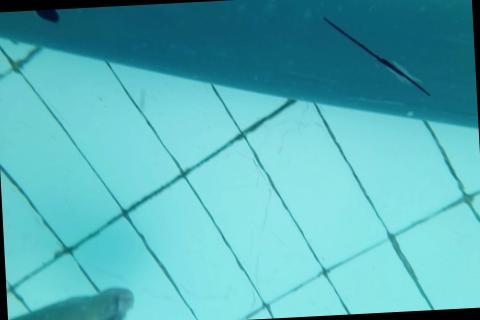kebocoran: (30, 9, 64, 27)
keretakan: (320, 7, 431, 102)
